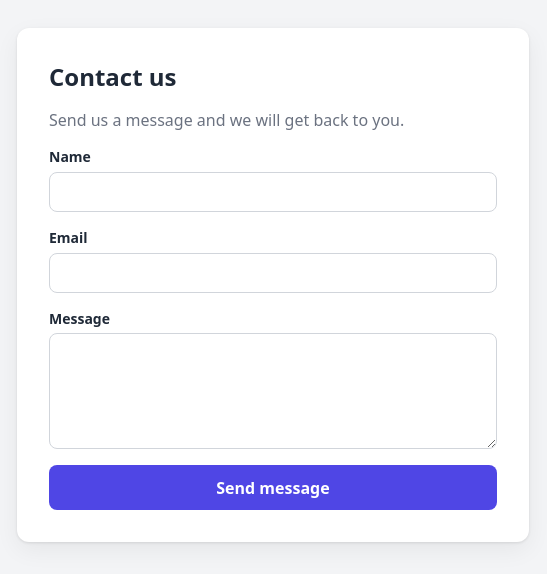
Test: shows a field error from a 400 response
This screenshot has width=547, height=574.
Click the button "Send message" at (273, 488), box [49,466,497,510]
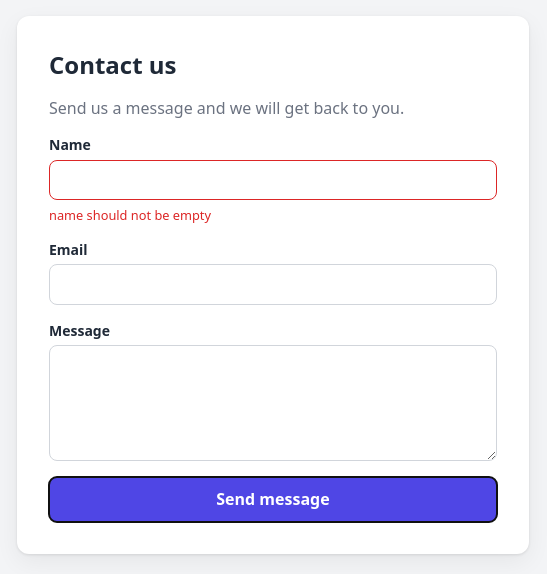
Check: the text "name should not be empty" is shown, box [49,206,211,224]
